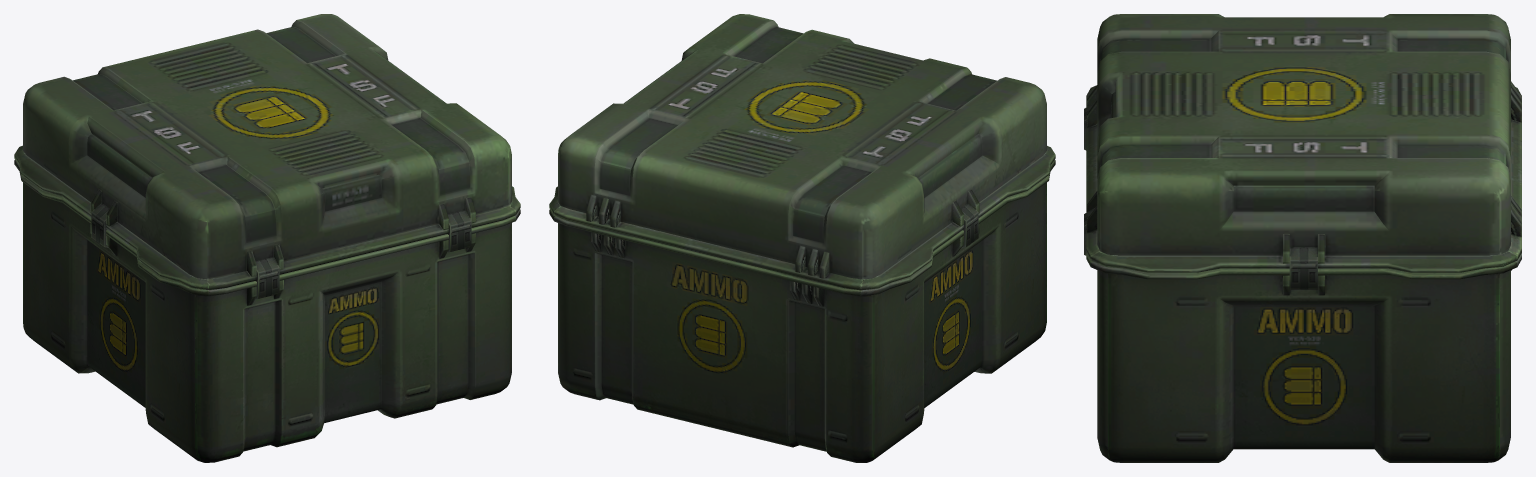
File: marine_crate_01_ammo.DAE
3 renders of one model, left to right at view 1: azimuth 30°, elevation 25°; view 2: azimuth 150°, elevation 25°; view 3: azimuth 270°, elevation 25°, orthographic. The views are drawn at different scales.
Parts seen in each view (by area): view 1: crate_single_closed_PIVOT; view 2: crate_single_closed_PIVOT; view 3: crate_single_closed_PIVOT.
Boxes of the visible parts, bbox=[...] form: crate_single_closed_PIVOT: bbox=[14, 14, 520, 462]; crate_single_closed_PIVOT: bbox=[549, 14, 1055, 462]; crate_single_closed_PIVOT: bbox=[1084, 14, 1521, 462].
Bounding box in the file's own units: 57.73 × 55.03 × 39.99.
